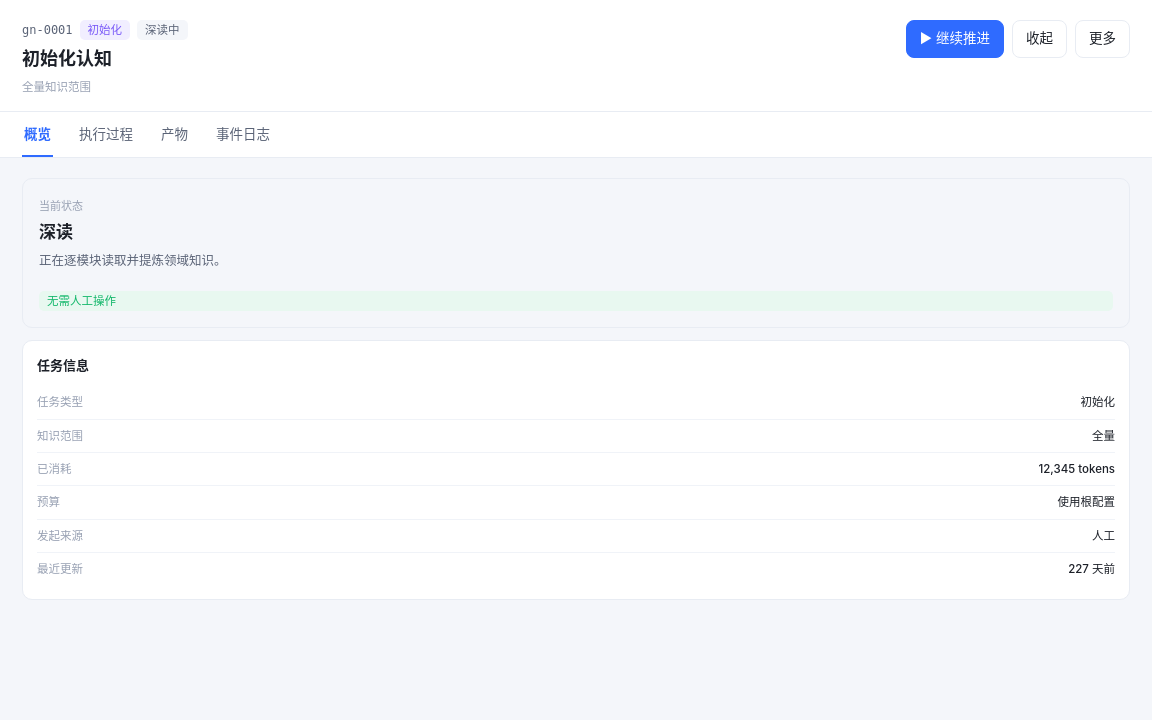
Test: 执行轨迹 › shows what the employee actually did, grouped by module
Expected: the heading "初始化认知" is shown, [22,48,112,69]
Step 1. Click the tab "执行过程" → (106, 134), box [77,112,135,157]
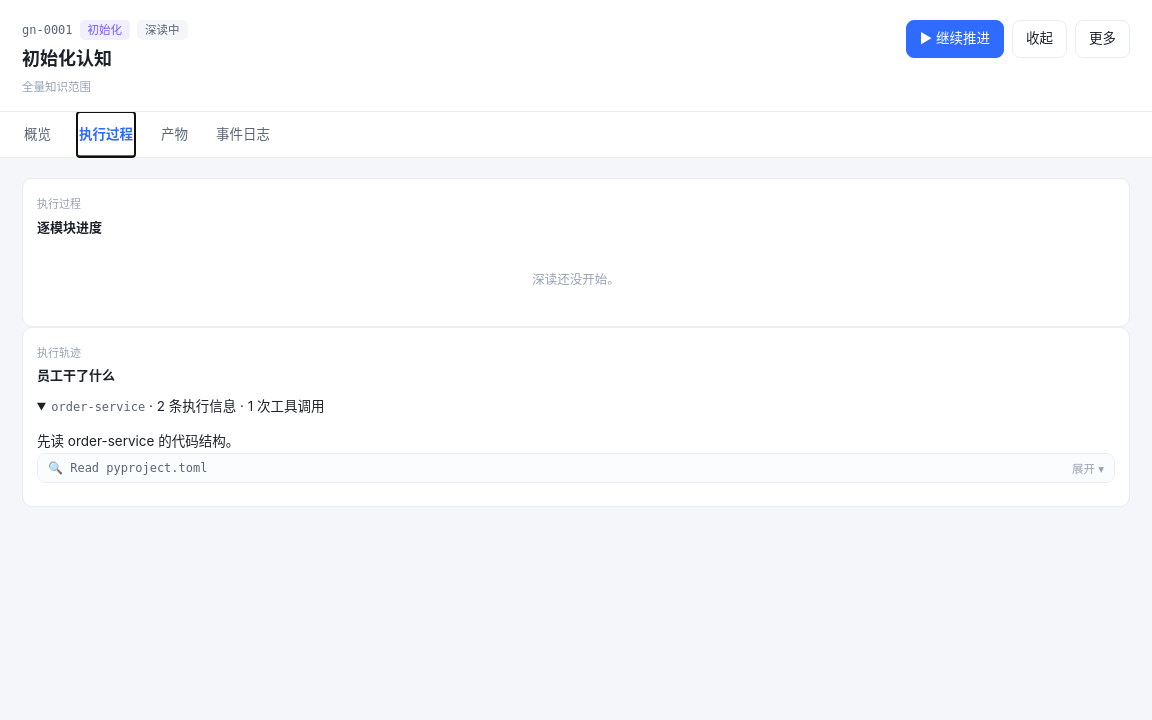
Now the heading "员工干了什么" is shown, box [37,365,115,386]
Now the text "· 2 条执行信息 · 1 次工具调用" is shown, box [145,398,324,414]
Now the text "先读 order-service 的代码结构。" is shown, box [37,433,239,449]
